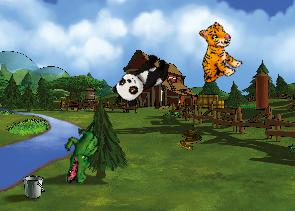crocodile: (61, 122, 102, 184)
panda: (109, 47, 175, 110)
tiger: (182, 19, 248, 88)
